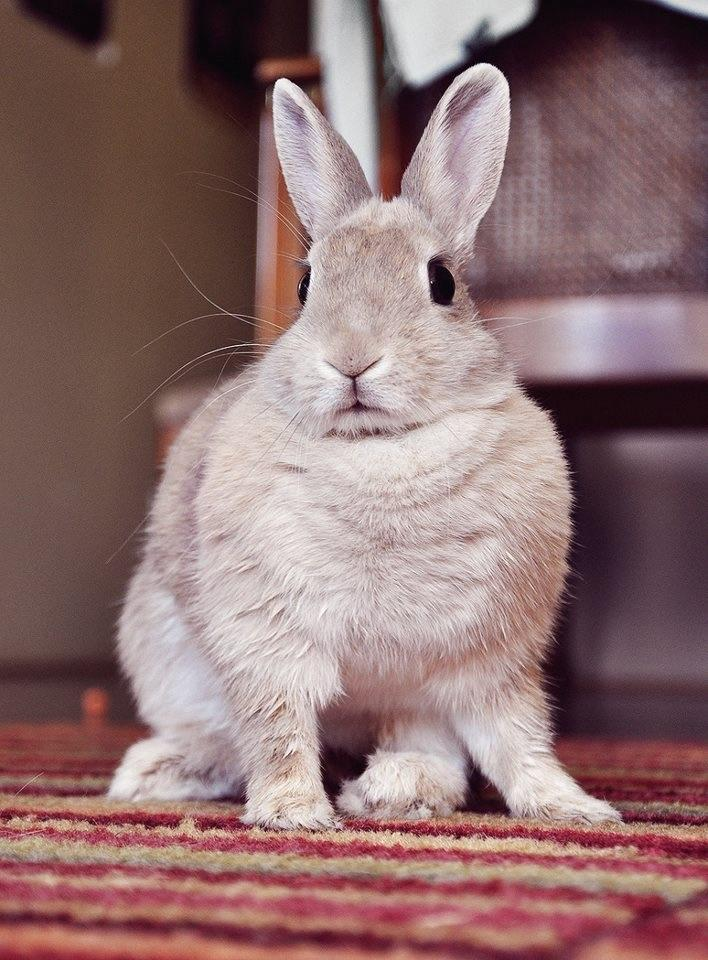bunny: (84, 57, 649, 851)
